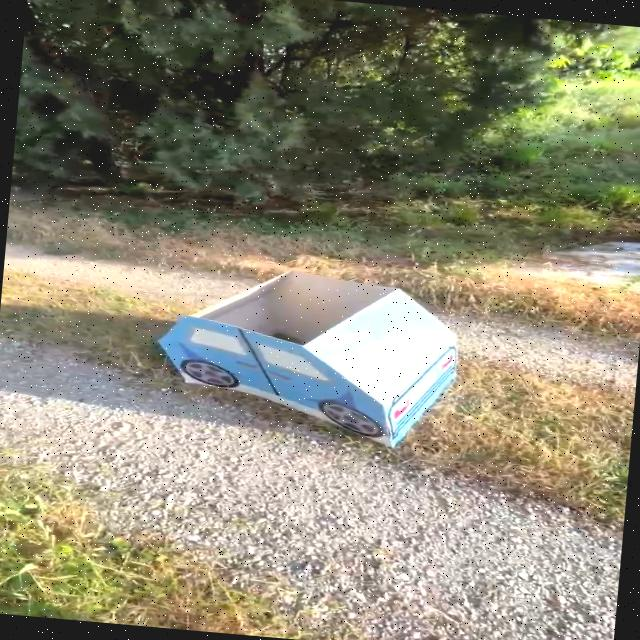blue_car: (121, 234, 519, 487)
